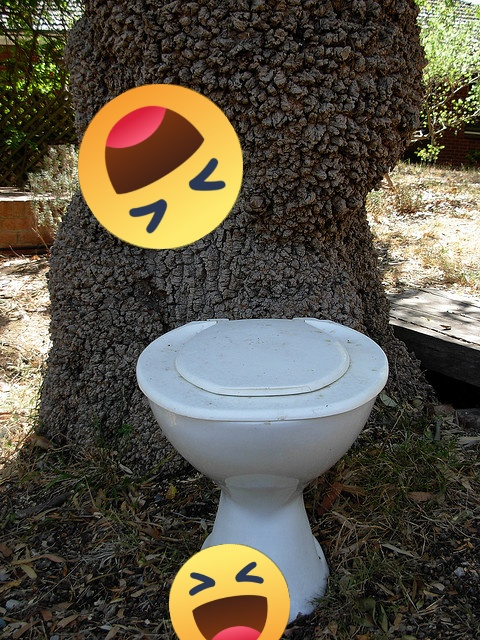haha: (78, 84, 243, 249), (169, 544, 290, 640)
